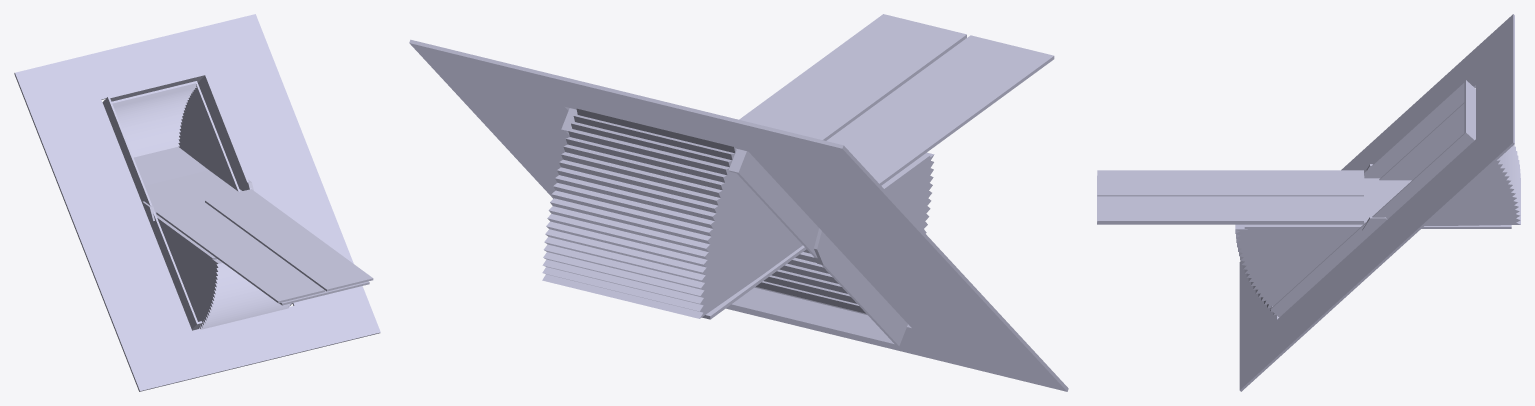
Rendered from LSPan02.glb.
3 views of the same model, side by side, from view 1: azimuth 30°, elevation 25°; view 2: azimuth 150°, elevation 25°; view 3: azimuth 270°, elevation 25° (orthographic). The views are drawn at different scales.
Parts seen in each view (by area): view 1: copy_Body021, copy_Body022, copy_LinkGroup004, copy_Body023, copy_Body016, copy_Body, copy_Body017, copy_LinkGroup003; view 2: copy_Body021, copy_Body022, copy_LinkGroup004, copy_Body017, copy_Body, copy_Body016, copy_Body023, copy_LinkGroup003, copy_Body002; view 3: copy_Body021, copy_LinkGroup004, copy_Body022, copy_Body016, copy_Body, copy_Body023, copy_LinkGroup003, copy_Body017.
Part boxes in pixels (x1,y1,x2,y2): copy_Body021: (14,14,380,391); copy_Body022: (112,81,239,191); copy_LinkGroup004: (163,190,369,305); copy_Body023: (158,221,291,329); copy_Body016: (209,189,373,290); copy_Body: (102,73,292,330); copy_Body017: (156,202,321,303); copy_LinkGroup003: (145,170,242,259); copy_Body021: (409,39,1068,391); copy_Body022: (542,108,802,318); copy_LinkGroup004: (746,15,1046,168); copy_Body017: (839,37,1054,185); copy_Body: (561,108,907,346); copy_Body016: (739,14,958,138); copy_Body023: (754,152,934,314); copy_LinkGroup003: (702,154,930,319); copy_Body002: (814,228,838,265); copy_Body021: (1239,14,1514,391); copy_LinkGroup004: (1097,172,1364,224); copy_Body022: (1379,102,1520,225); copy_Body016: (1097,201,1363,223); copy_Body: (1270,80,1475,317); copy_Body023: (1235,224,1357,315); copy_LinkGroup003: (1244,178,1511,228); copy_Body017: (1097,170,1363,193).
Bounding box in the file's own units: 1.68 × 1.52 × 2.34.
